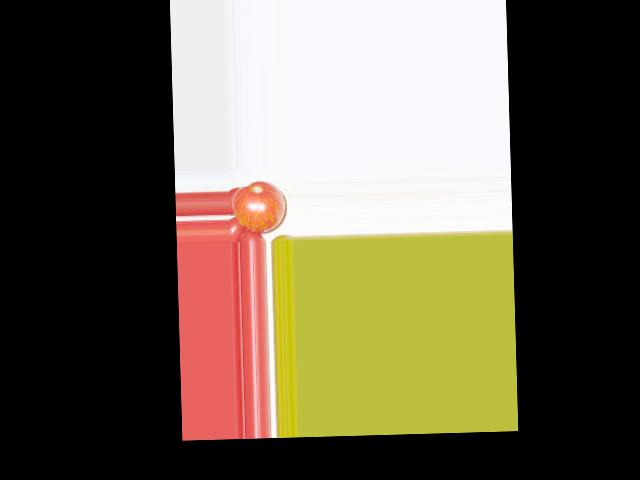tomato: (231, 179, 286, 234)
